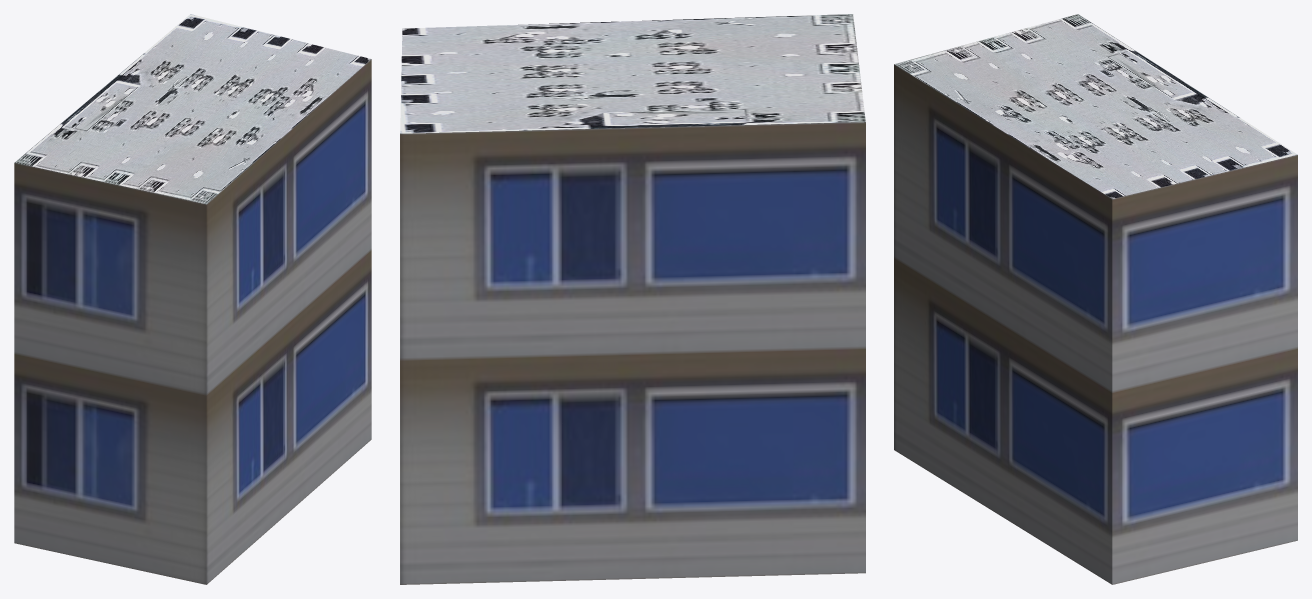
File: ResTex__3560.fbx
3 views of the same model, side by side, from view 1: azimuth 30°, elevation 25°; view 2: azimuth 150°, elevation 25°; view 3: azimuth 270°, elevation 25° (orthographic). The views are drawn at different scales.
Parts seen in each view (by area): view 1: CityEngineMaterial_23_m, CityEngineMaterial_8_m; view 2: CityEngineMaterial_23_m, CityEngineMaterial_8_m; view 3: CityEngineMaterial_23_m, CityEngineMaterial_8_m.
Part boxes in pixels (x1,y1,x2,y2): CityEngineMaterial_23_m: (14, 59, 371, 584); CityEngineMaterial_8_m: (15, 14, 370, 204); CityEngineMaterial_23_m: (400, 122, 865, 584); CityEngineMaterial_8_m: (400, 14, 865, 133); CityEngineMaterial_23_m: (894, 64, 1297, 584); CityEngineMaterial_8_m: (894, 14, 1297, 198).
Size of the model in its own units: 6.17 by 6 by 5.69.
Materials: 2 (2 with a texture image).
